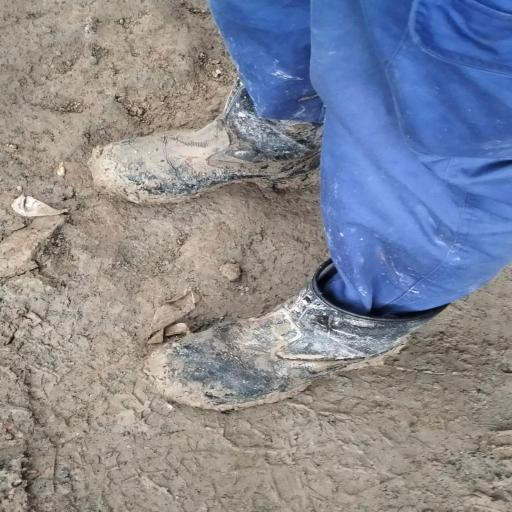safety_shoe: (156, 282, 414, 406), (88, 99, 322, 204)
